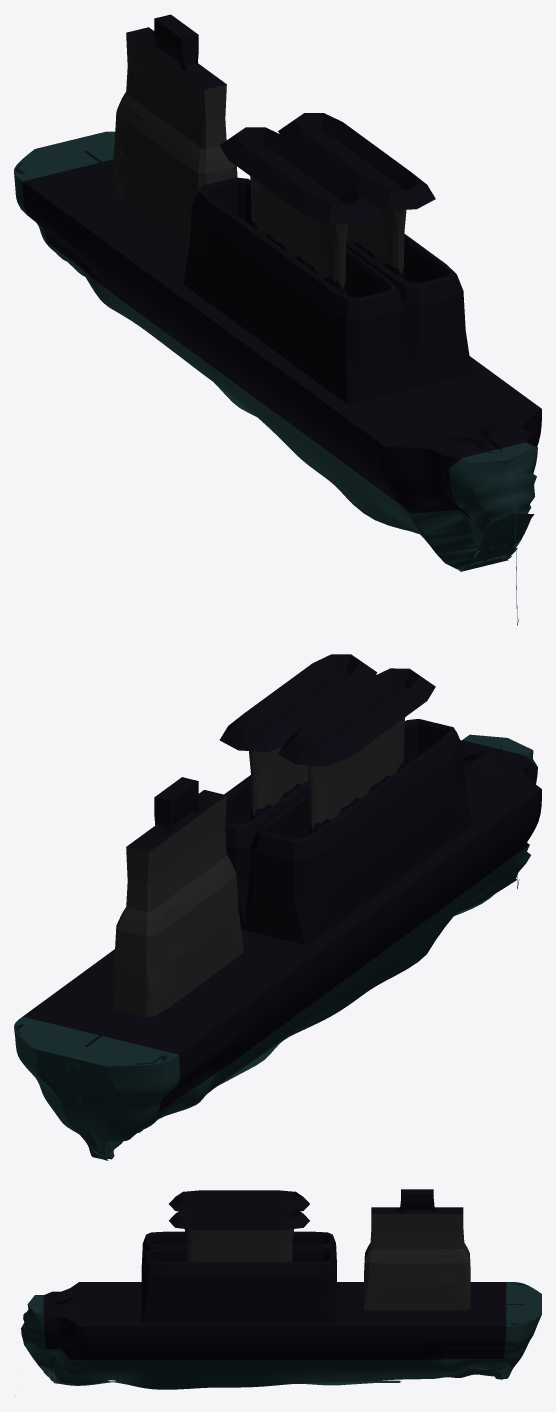
Rendered from Battleship1.FBX.
The picture shows the model from 3 angles, top to bottom: view 1: azimuth 30°, elevation 25°; view 2: azimuth 150°, elevation 25°; view 3: azimuth 270°, elevation 25°; orthographic projection. The views are drawn at different scales.
Visible parts, largest first — view 1: Box001; view 2: Box001; view 3: Box001.
Part boxes in pixels (bbox=[...]): Box001: bbox=[14, 14, 541, 625]; Box001: bbox=[14, 654, 541, 1160]; Box001: bbox=[15, 1189, 541, 1395].
Size of the model in its own units: 14.93 by 31.85 by 74.14.
